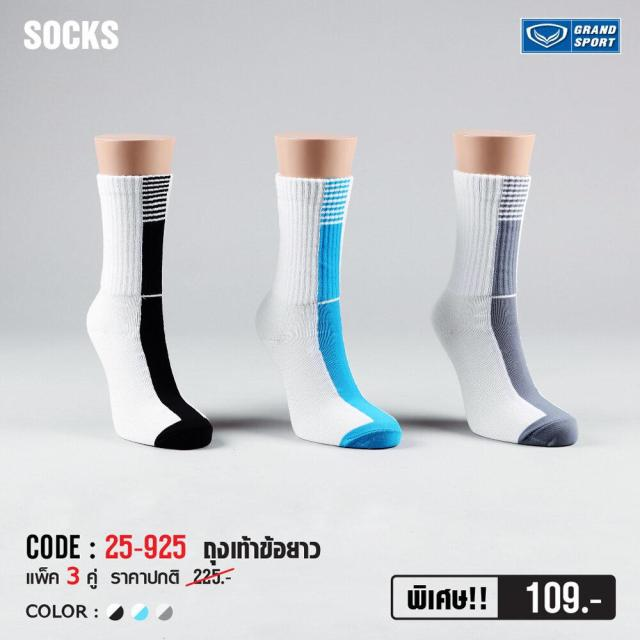sock: (430, 129, 579, 447), (255, 133, 402, 450), (85, 133, 213, 449)
